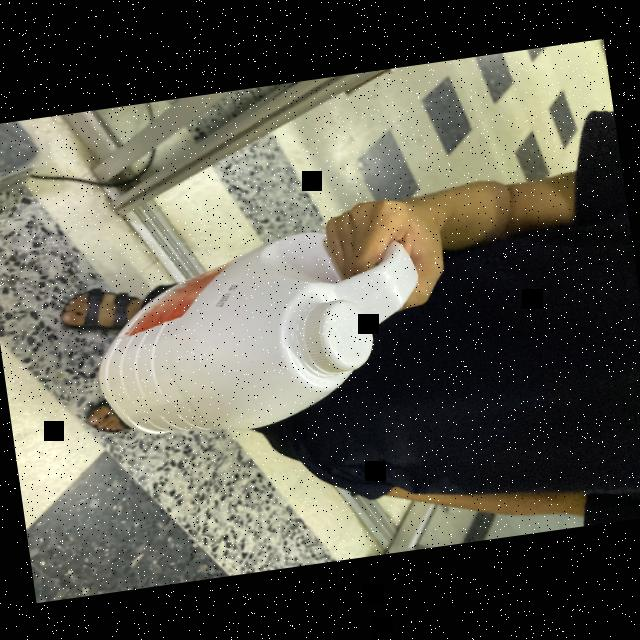chemical_plastic_gallon: (81, 214, 439, 447)
